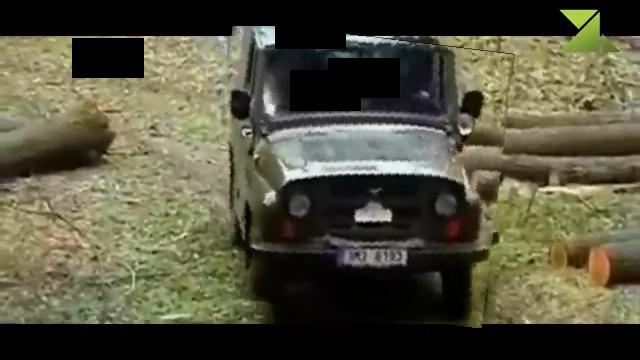MIL_HMMWV: (208, 27, 507, 320)
